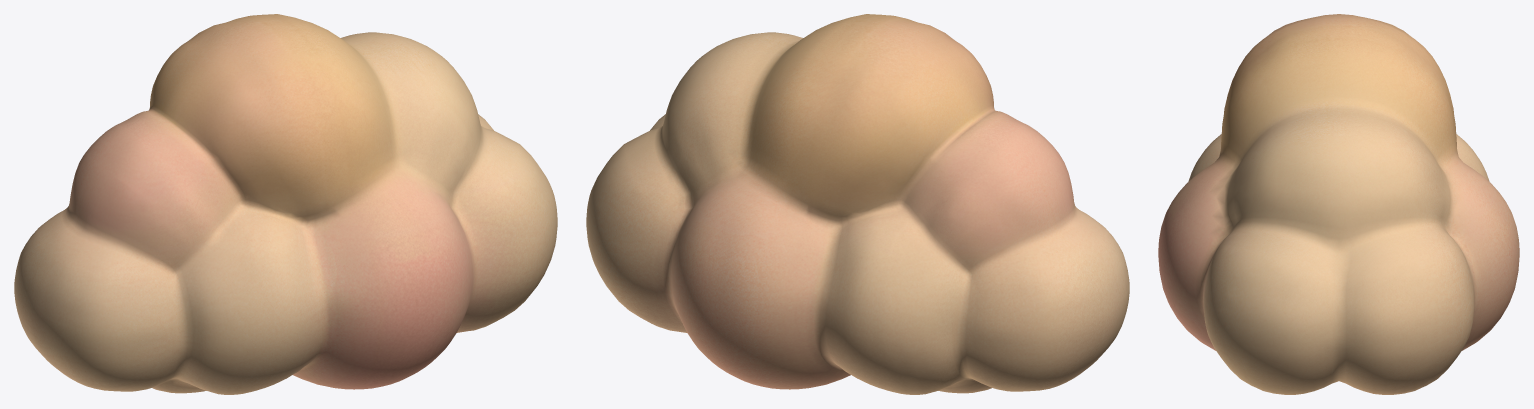
Rendered from cloud_3d_model.glb.
The picture shows the model from 3 angles, left to right: view 1: azimuth 30°, elevation 25°; view 2: azimuth 150°, elevation 25°; view 3: azimuth 270°, elevation 25°; orthographic projection. The views are drawn at different scales.
Visible parts, largest first — view 1: tripo_28f1aa39_56c4_49b0_a579_a733d2ef503f; view 2: tripo_28f1aa39_56c4_49b0_a579_a733d2ef503f; view 3: tripo_28f1aa39_56c4_49b0_a579_a733d2ef503f.
Boxes of the visible parts, box(x1,y1,x2,y2) form: tripo_28f1aa39_56c4_49b0_a579_a733d2ef503f: box(14, 14, 557, 394); tripo_28f1aa39_56c4_49b0_a579_a733d2ef503f: box(586, 14, 1129, 394); tripo_28f1aa39_56c4_49b0_a579_a733d2ef503f: box(1158, 14, 1519, 394).
Bounding box in the file's own units: 0.9995 × 0.6577 × 0.6919.
Materials: 1 (1 with a texture image).
